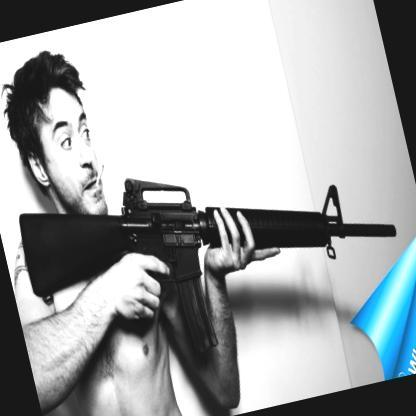rifle: (9, 117, 416, 398)
